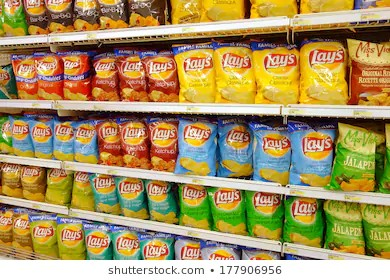lays-med: (299, 36, 351, 106), (291, 119, 335, 187), (257, 44, 298, 103), (174, 118, 216, 175), (213, 44, 253, 103), (178, 43, 215, 102), (253, 125, 290, 182), (58, 36, 88, 101), (218, 121, 250, 178), (143, 49, 176, 103), (114, 51, 147, 101), (285, 199, 324, 241), (246, 197, 285, 237), (149, 121, 177, 174), (7, 55, 39, 98), (92, 51, 118, 103), (31, 55, 61, 100), (123, 121, 148, 174), (215, 190, 245, 234), (28, 220, 59, 261), (99, 119, 123, 170), (179, 185, 207, 225), (28, 119, 53, 163), (74, 124, 97, 170), (10, 118, 33, 161), (2, 214, 27, 252), (51, 123, 75, 161)
